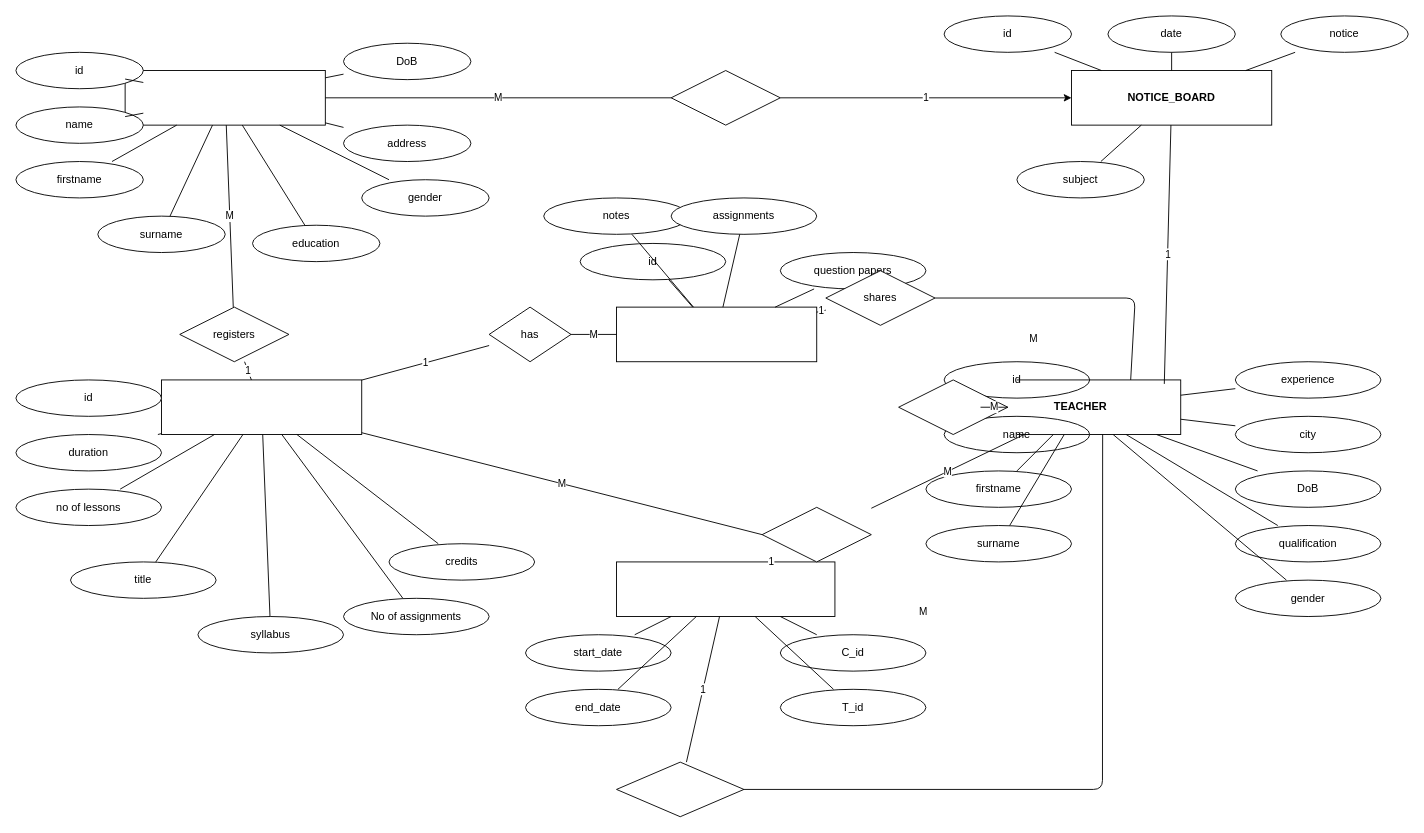
Image size: 1424x833. Some labels were removed from this diagram. The centre of each missing label's shape, as x and y in pixels:
assigned to: point (680, 789)
checks: point (725, 97)
COURSE: point (261, 407)
COURSE_SCHEDULE: point (725, 589)
follows: point (816, 534)
STUDENT: point (224, 97)
STUDY_MATERIAL: point (716, 334)
updates: point (953, 407)
